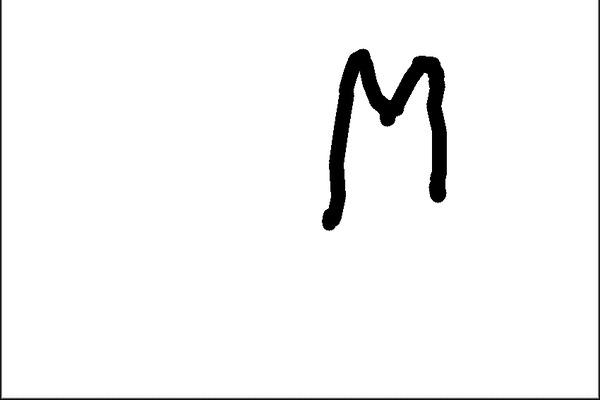M: (319, 44, 446, 228)
